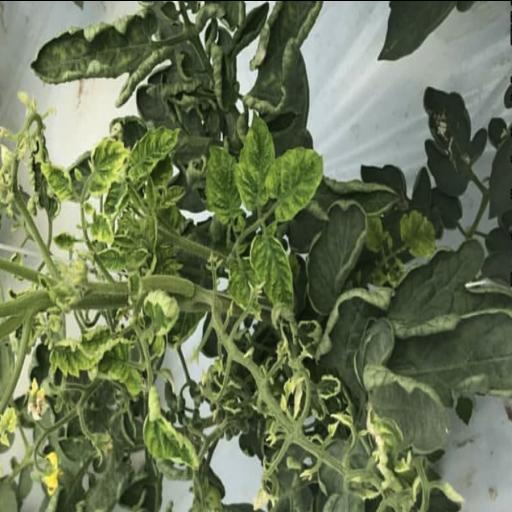disease_tomato: (262, 142, 324, 222), (234, 111, 276, 213), (248, 232, 295, 308), (202, 143, 242, 223), (124, 125, 182, 179), (85, 136, 129, 194)
